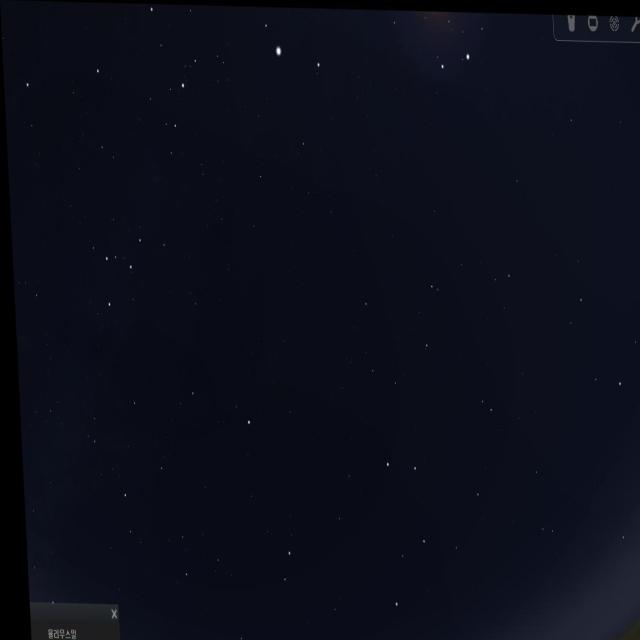ursa_major: (363, 414, 437, 640)
